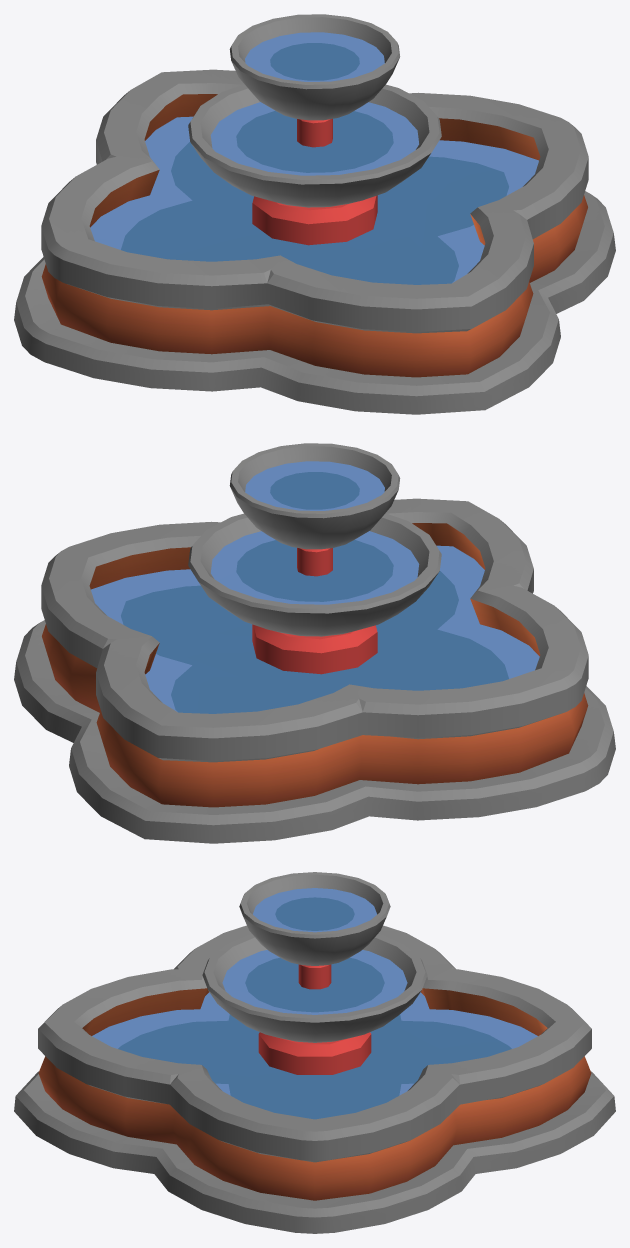
File: Fountain_1_A.fbx
3 views of the same model, one above another, from view 1: azimuth 30°, elevation 25°; view 2: azimuth 150°, elevation 25°; view 3: azimuth 270°, elevation 25° (orthographic). The views are drawn at different scales.
Visible parts, largest first — view 1: Fountain_1_A; view 2: Fountain_1_A; view 3: Fountain_1_A.
Boxes of the visible parts, x1=… form: Fountain_1_A: x1=14, y1=14, x2=615, y2=414; Fountain_1_A: x1=14, y1=443, x2=615, y2=843; Fountain_1_A: x1=14, y1=872, x2=615, y2=1233.
Bounding box in the file's own units: 381 × 151 × 396.
